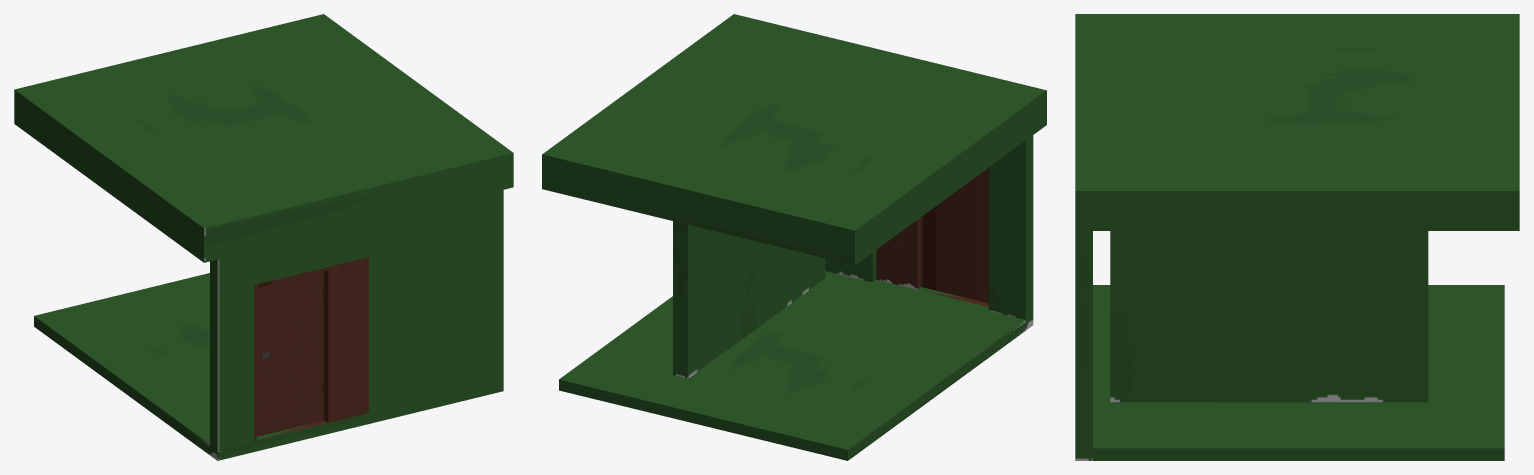
The picture shows the model from 3 angles, left to right: view 1: azimuth 30°, elevation 25°; view 2: azimuth 150°, elevation 25°; view 3: azimuth 270°, elevation 25°; orthographic projection. The views are drawn at different scales.
Visible parts, largest first — view 1: krisha, Cube, Door.002, Door, Door.001; view 2: krisha, Cube, Door.002, Door; view 3: krisha, Cube.
Boxes of the visible parts, x1,y1,x2,y2 form: krisha: [14, 14, 513, 262]; Cube: [34, 190, 503, 460]; Door.002: [256, 271, 327, 436]; Door: [324, 257, 368, 422]; Door.001: [254, 267, 328, 440]; krisha: [542, 14, 1046, 265]; Cube: [559, 135, 1033, 460]; Door.002: [917, 168, 988, 306]; Door: [876, 217, 921, 289]; krisha: [1075, 14, 1519, 230]; Cube: [1075, 231, 1504, 460].
Bounding box in the file's own units: 434 × 316 × 461.
Materials: 2 (2 with a texture image).
